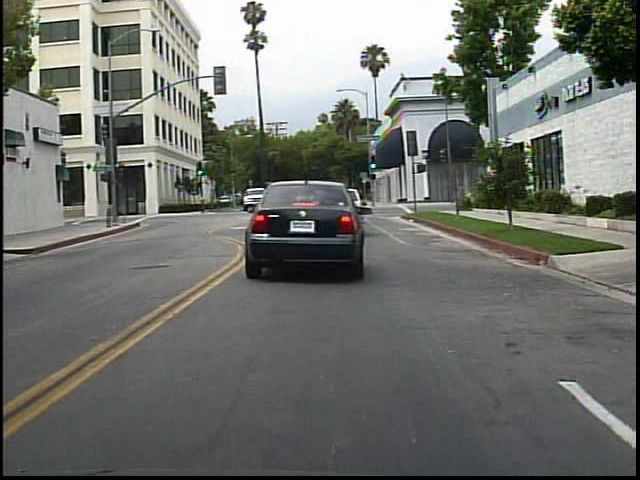person: (329, 178, 355, 220)
